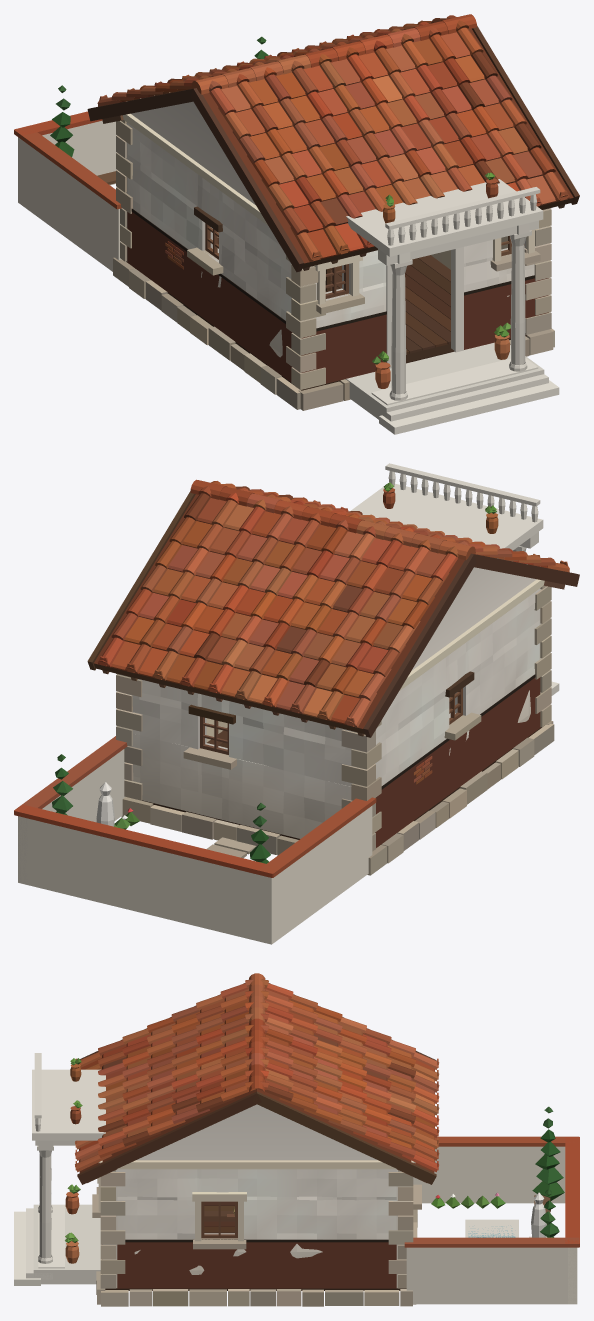
File: patrician_5_1.glb
3 renders of one model, top to bottom at view 1: azimuth 30°, elevation 25°; view 2: azimuth 150°, elevation 25°; view 3: azimuth 270°, elevation 25°, orthographic. The views are drawn at different scales.
Parts seen in each view (by area): view 1: House, Walls, Rooms; view 2: House, Walls; view 3: House, Walls, Rooms.
Part boxes in pixels (x1=…): House: x1=14, y1=14, x2=579, y2=434; Walls: x1=126, y1=101, x2=547, y2=357; Rooms: x1=217, y1=232, x2=507, y2=354; House: x1=14, y1=463, x2=579, y2=944; Walls: x1=121, y1=567, x2=541, y2=838; House: x1=14, y1=973, x2=579, y2=1306; Walls: x1=103, y1=1104, x2=410, y2=1288; Rooms: x1=204, y1=1201, x2=234, y2=1233.
Bounding box in the file's own units: 4.09 × 3.66 × 8.43.
3 materials, 3 textured.
